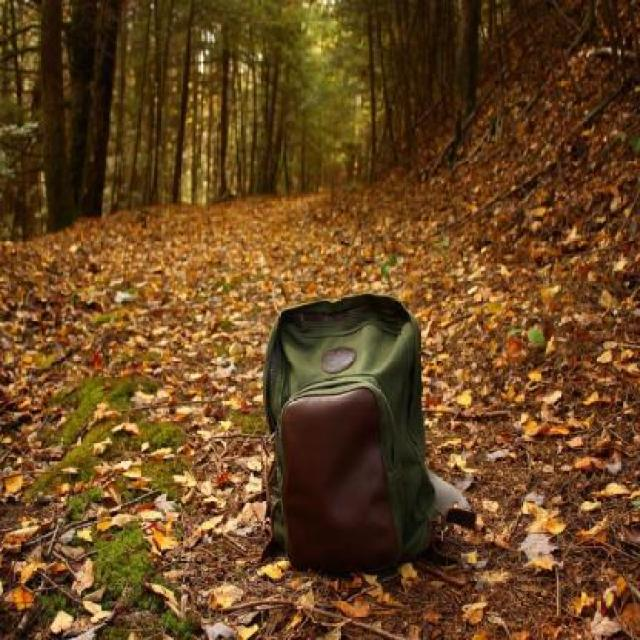backpack: (260, 290, 478, 578)
